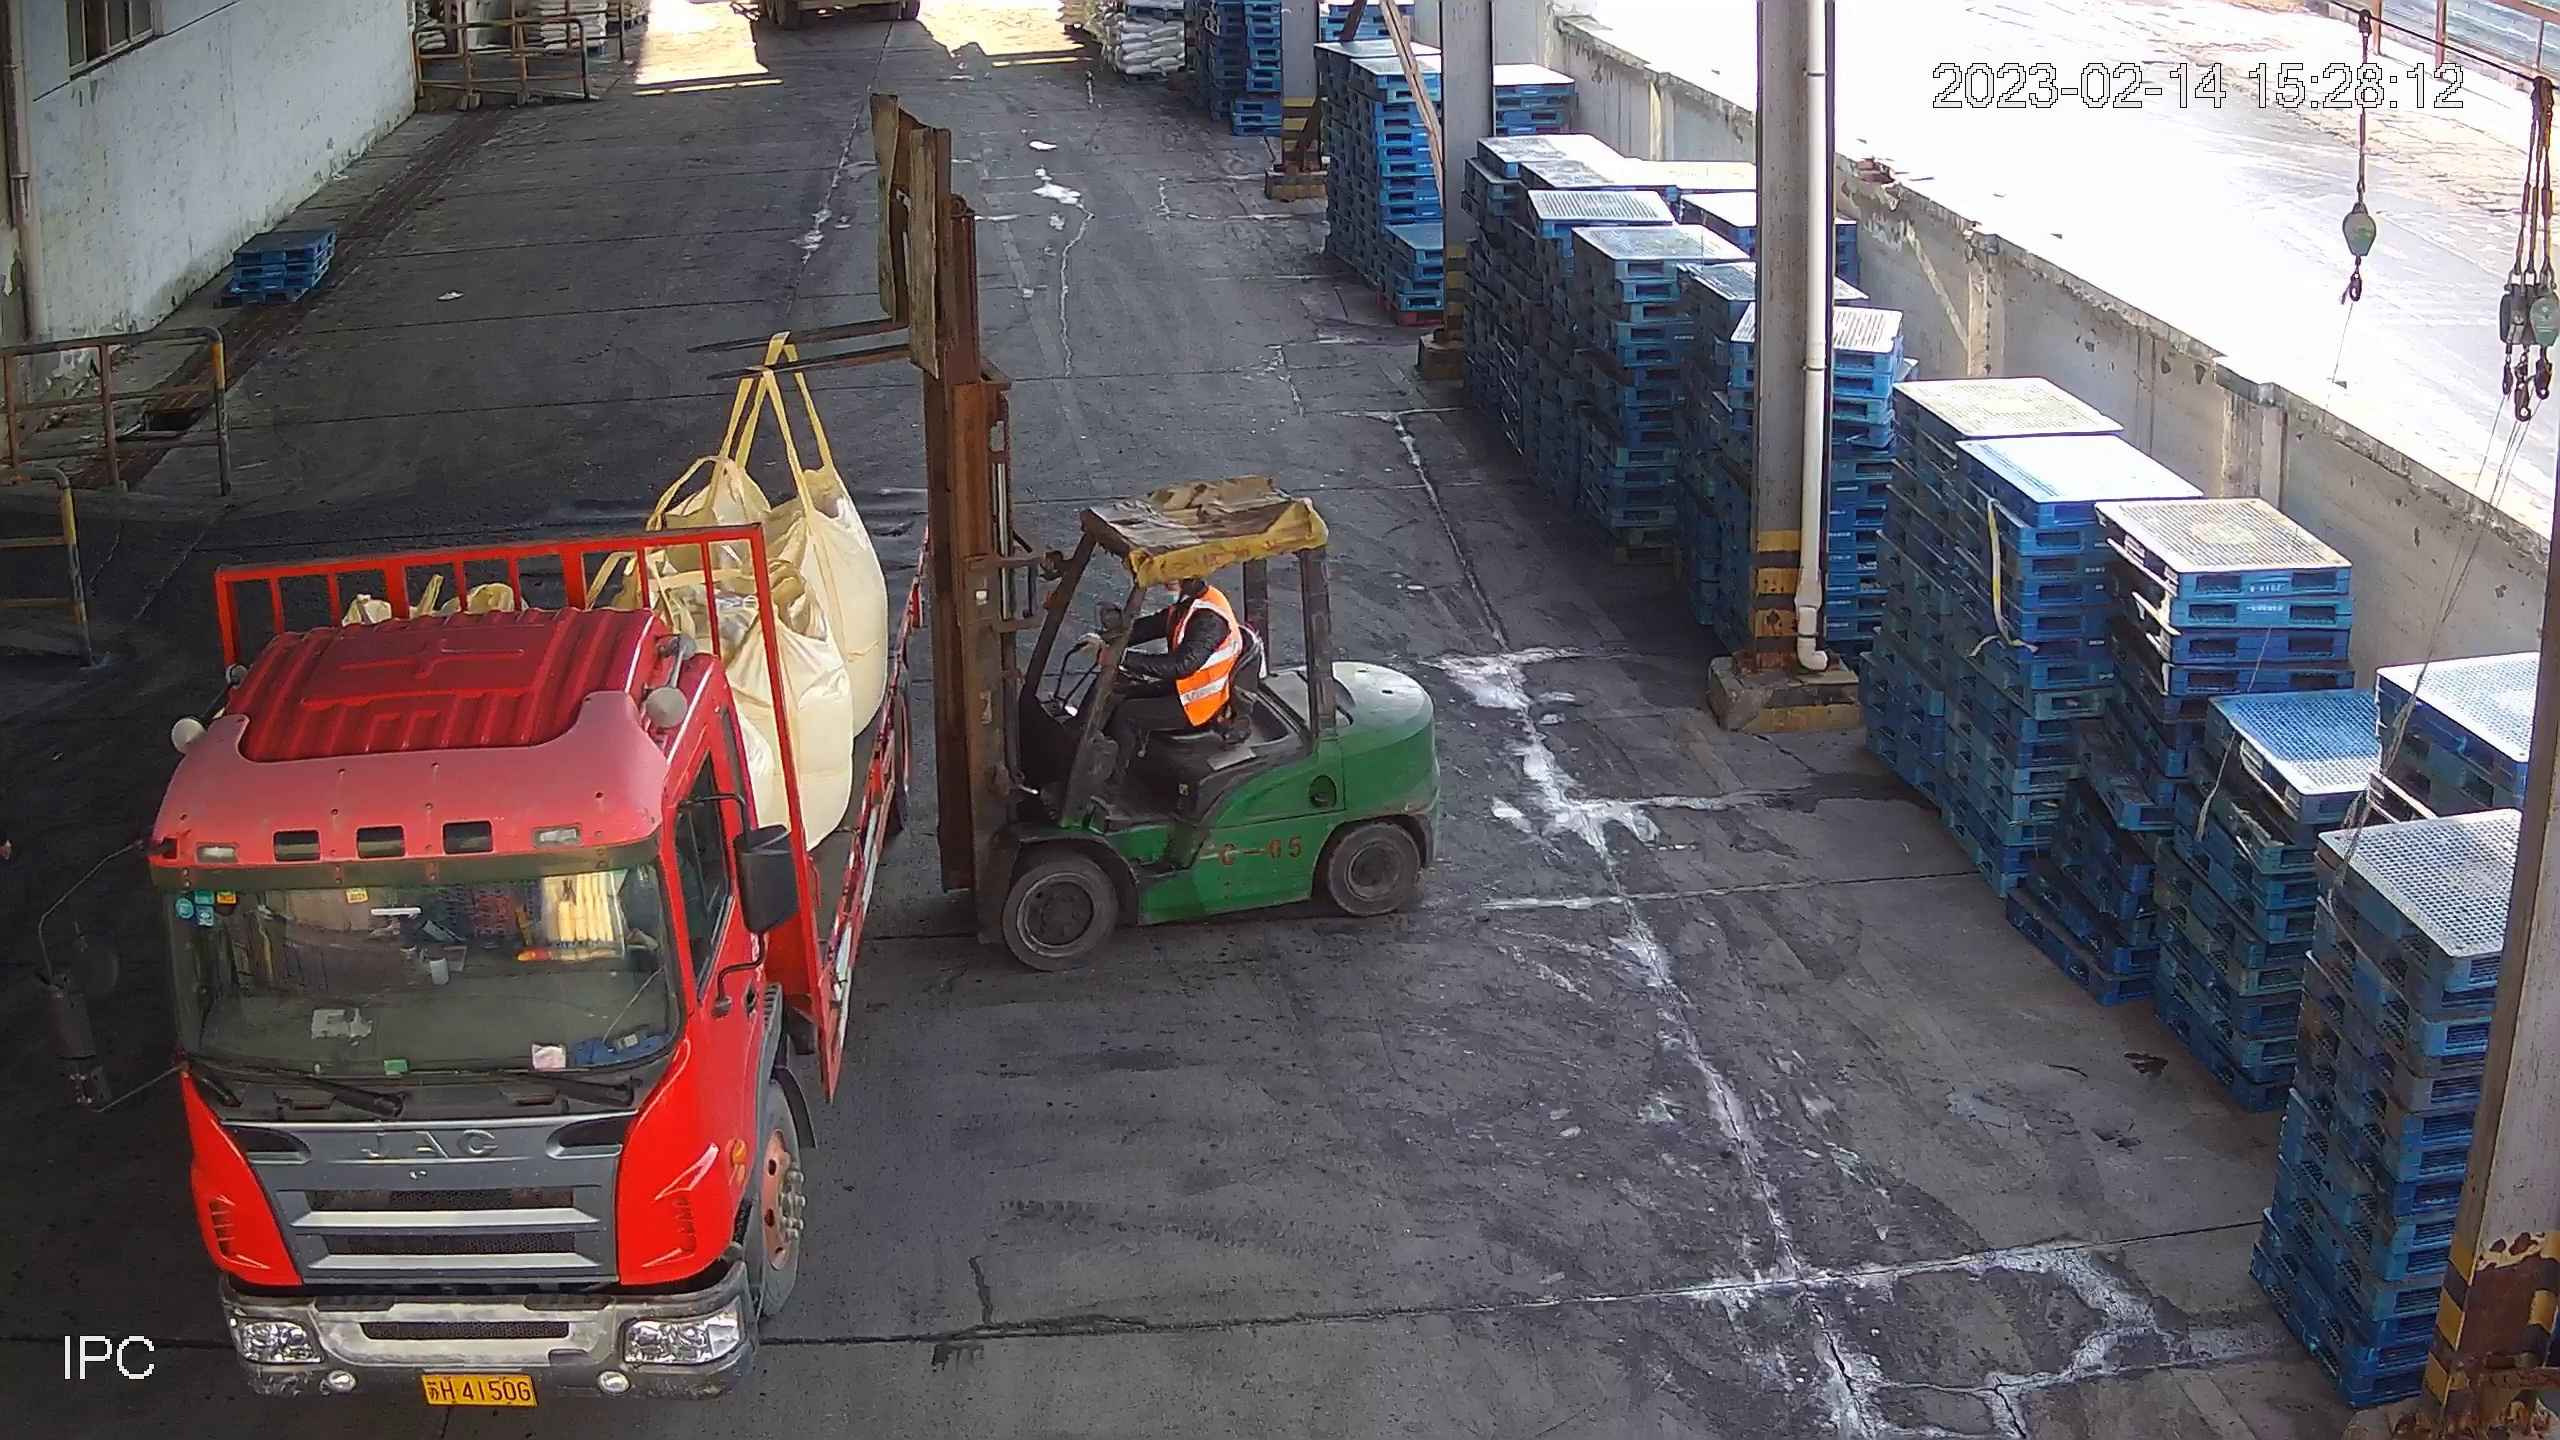people: (1069, 566, 1244, 808)
truck: (27, 476, 942, 1413)
